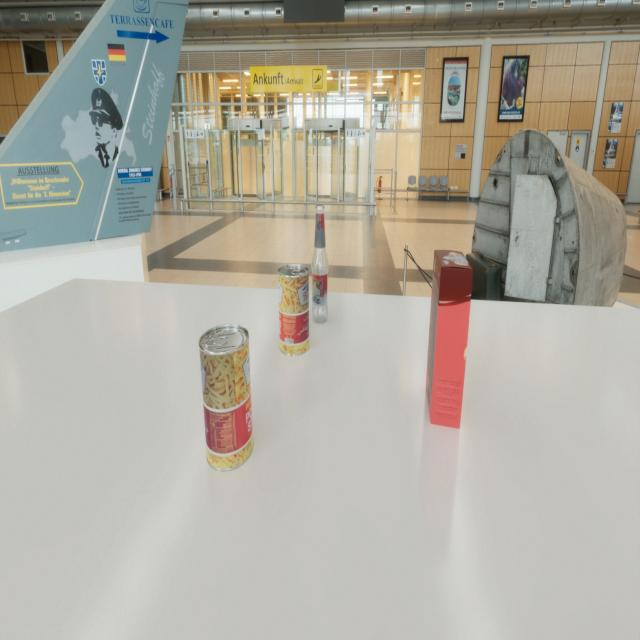Bottle: (311, 204, 329, 324)
HelloPanda: (426, 250, 473, 428)
Potato_sticks: (198, 324, 254, 471), (278, 264, 310, 356)
